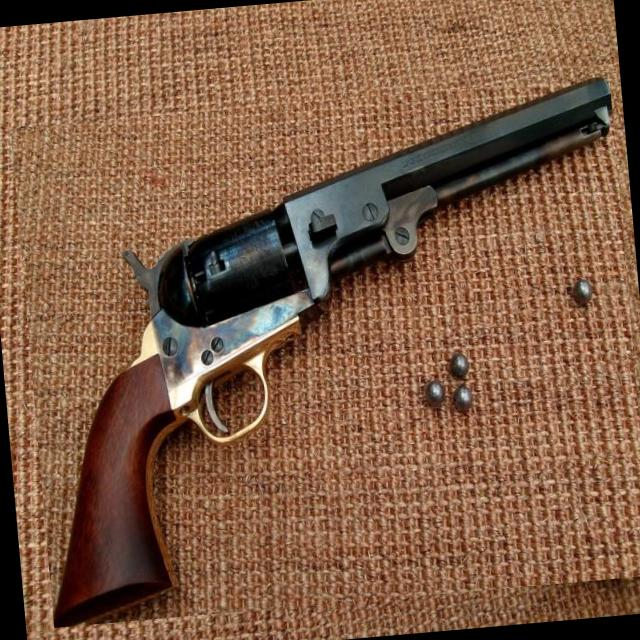Gun: (54, 77, 612, 627)
